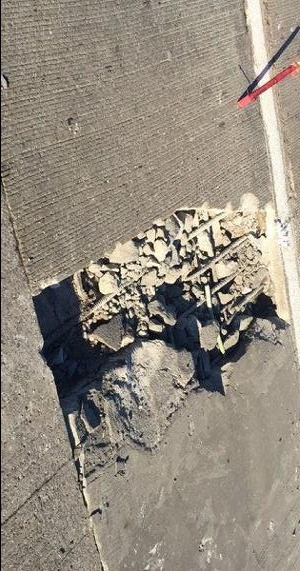pothole: (28, 195, 294, 427)
